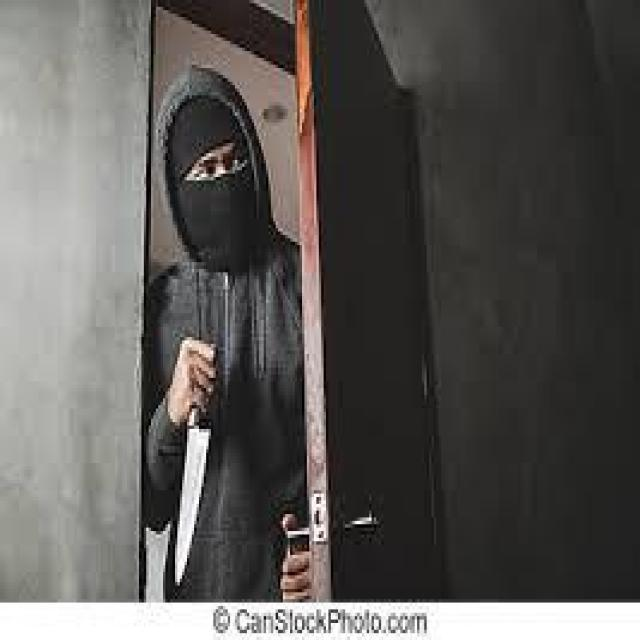faca: (168, 331, 218, 588)
